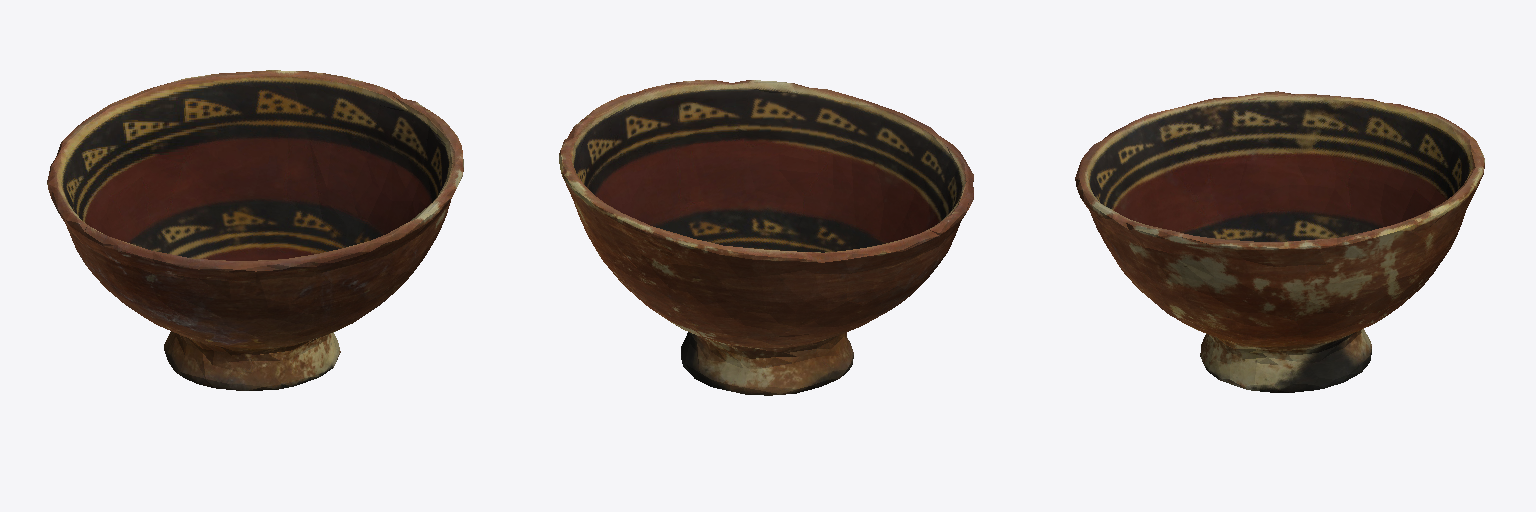
The picture shows the model from 3 angles: view 1: azimuth 30°, elevation 25°; view 2: azimuth 150°, elevation 25°; view 3: azimuth 270°, elevation 25°; orthographic projection.
Visible parts, largest first — view 1: piece2161.001; view 2: piece2161.001; view 3: piece2161.001.
Part boxes in pixels (left/top/right/bottom): piece2161.001: left=47, top=70, right=463, bottom=390; piece2161.001: left=559, top=80, right=973, bottom=395; piece2161.001: left=1075, top=91, right=1484, bottom=392.
Bounding box in the file's own units: 0.4301 × 0.2292 × 0.422.
Materials: 1 (1 with a texture image).